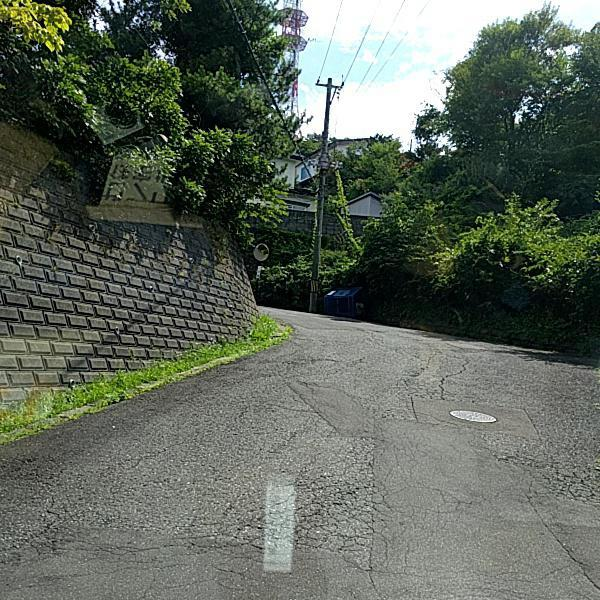D20: (121, 444, 387, 560), (505, 436, 599, 514), (392, 340, 473, 399)
D50: (448, 409, 498, 423)
